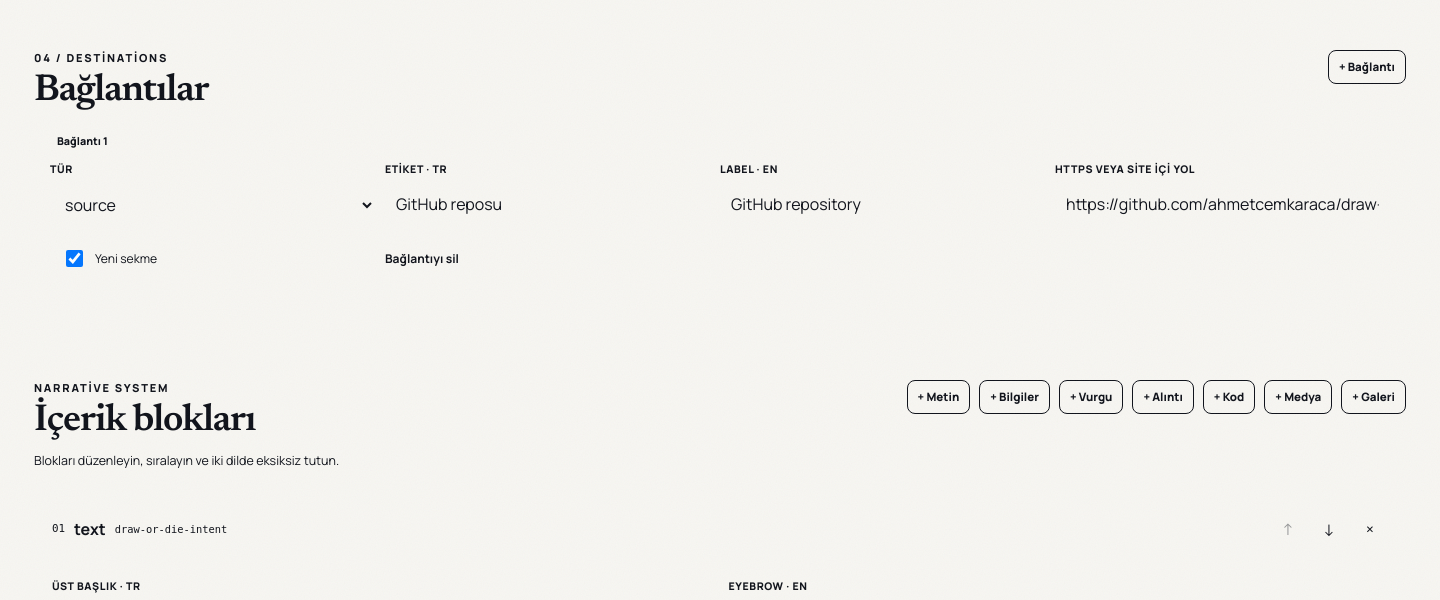
it: ProjectEditor › adds an editable callout without exposing raw JSON
(page scrolled)
What coordinates should you click on to do the following:
click the button "+ Vurgu"
I would click on:
 (1091, 397)
Its box is [1059,380,1123,414].
(page scrolled)
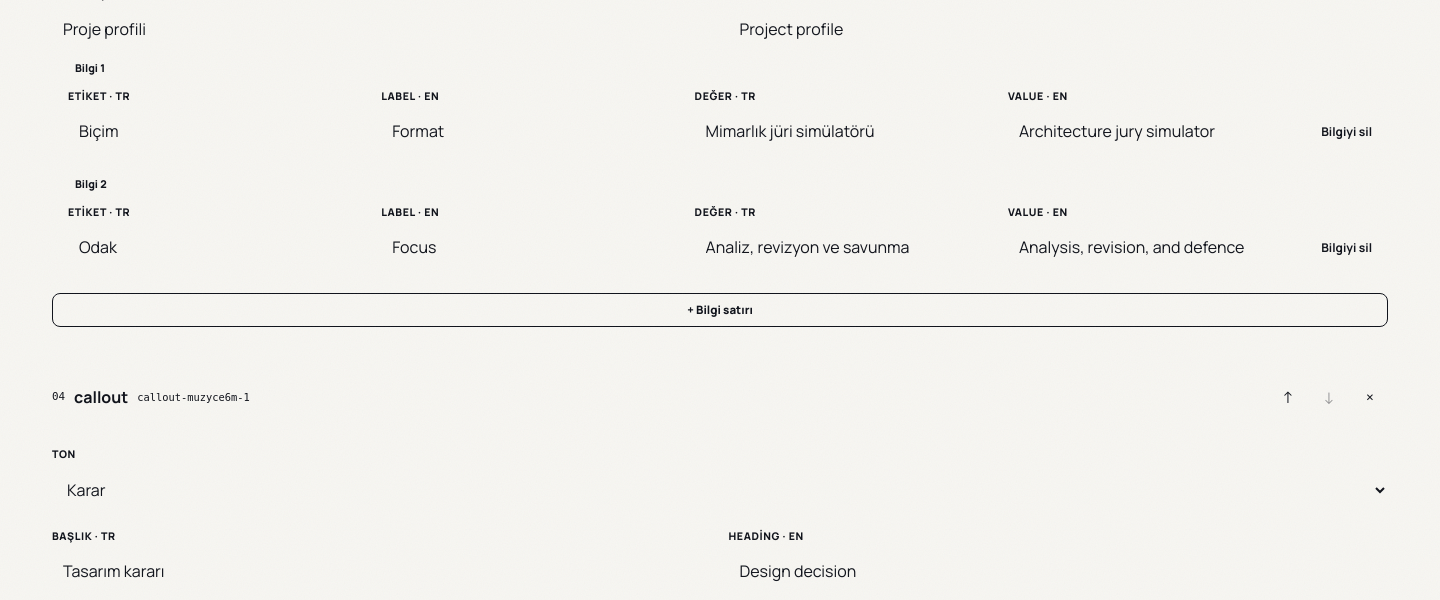
Expected: the text "callout" is shown, [74,386,128,408]
